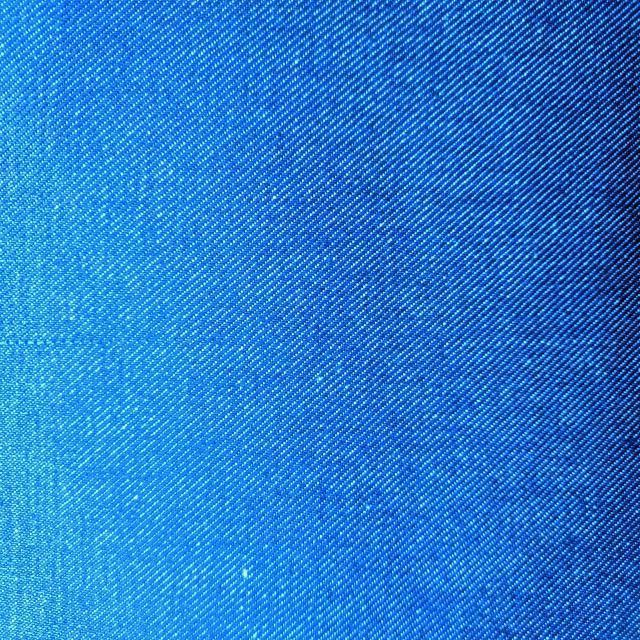Line: (0, 332, 198, 349)
